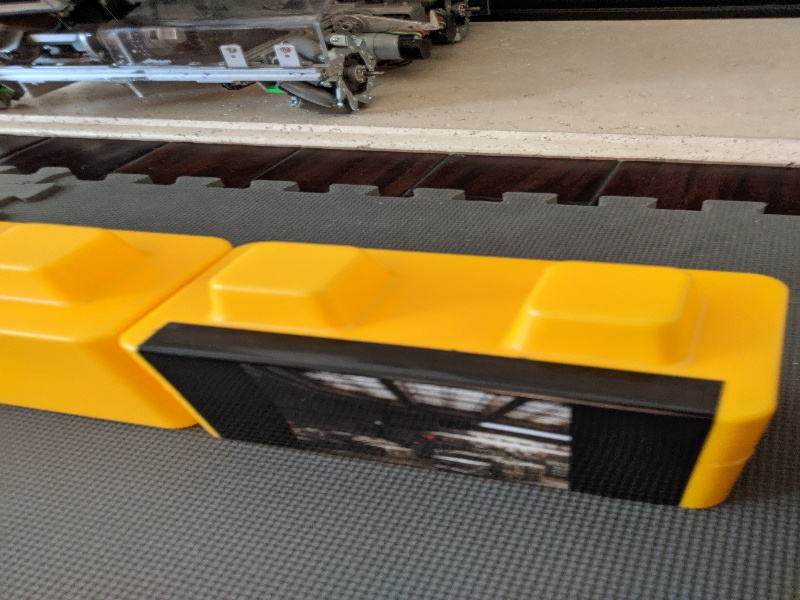Skystone: (131, 319, 728, 513)
